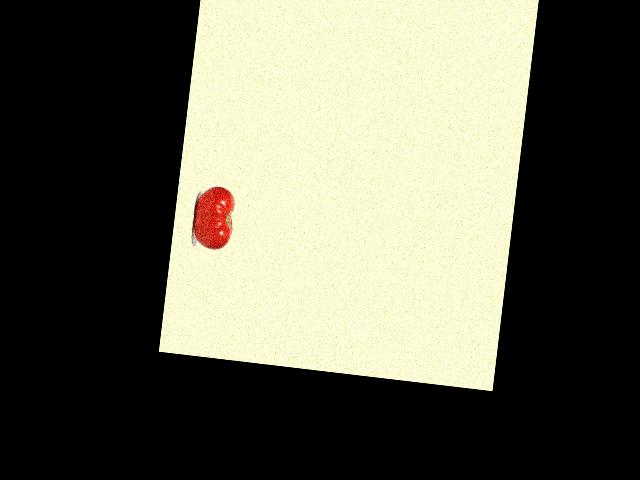tomato: (191, 184, 237, 251)
